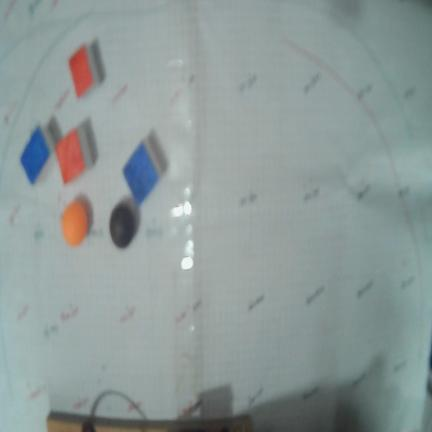circle_blue: (109, 203, 136, 247)
circle_orange: (62, 200, 87, 246)
rectangle_blue: (20, 128, 51, 186)
rectangle_orange: (70, 45, 95, 99)
square_blue: (121, 142, 160, 208)
square_orange: (55, 128, 87, 187)
